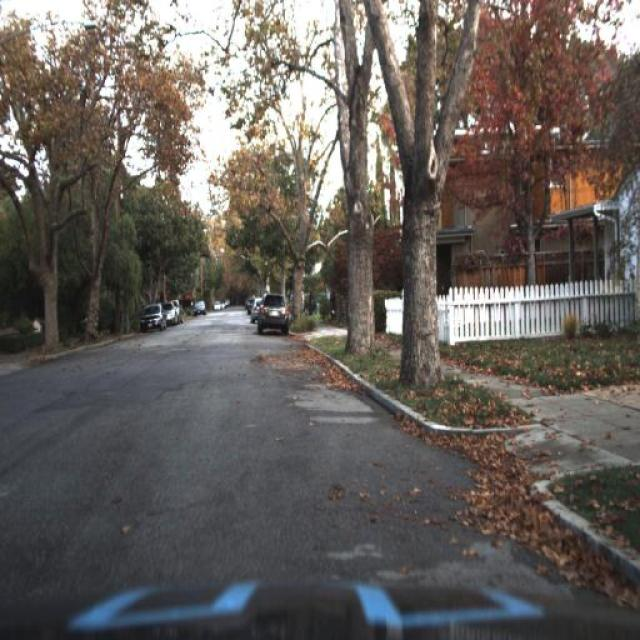car: (253, 290, 292, 340), (138, 300, 166, 332), (249, 292, 270, 331), (249, 288, 265, 328), (185, 294, 207, 320)
